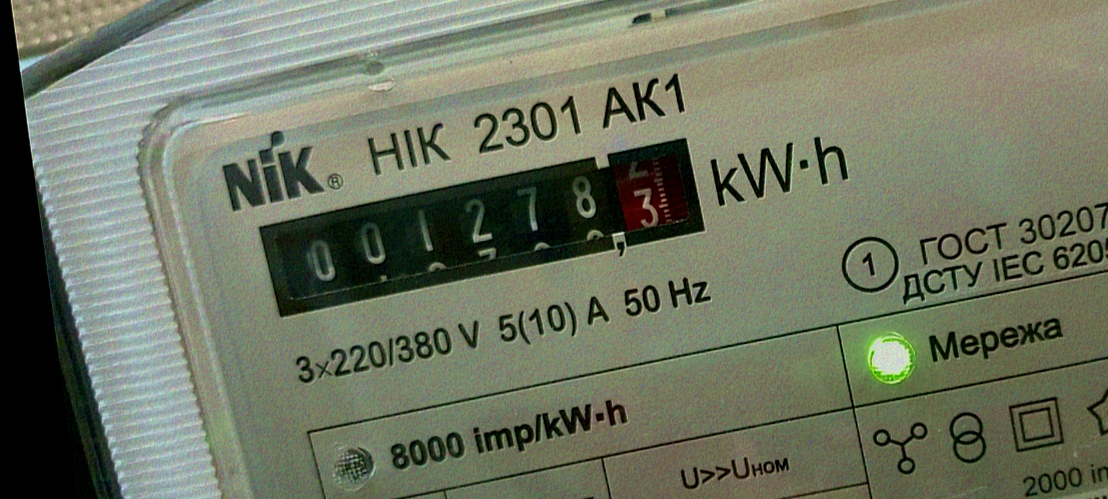0: (306, 235, 340, 286), (357, 219, 388, 268)
1: (414, 206, 437, 256)
2: (461, 196, 494, 245), (623, 159, 651, 183)
3: (630, 183, 661, 230)
7: (515, 184, 543, 235)
8: (568, 173, 599, 223)
screen: (234, 126, 726, 331)
